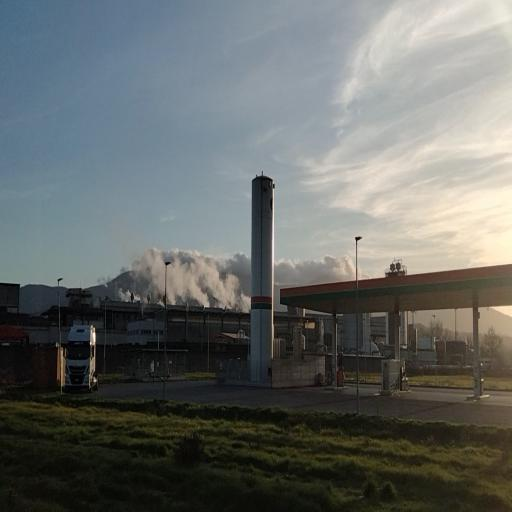leakage: (108, 234, 254, 315)
